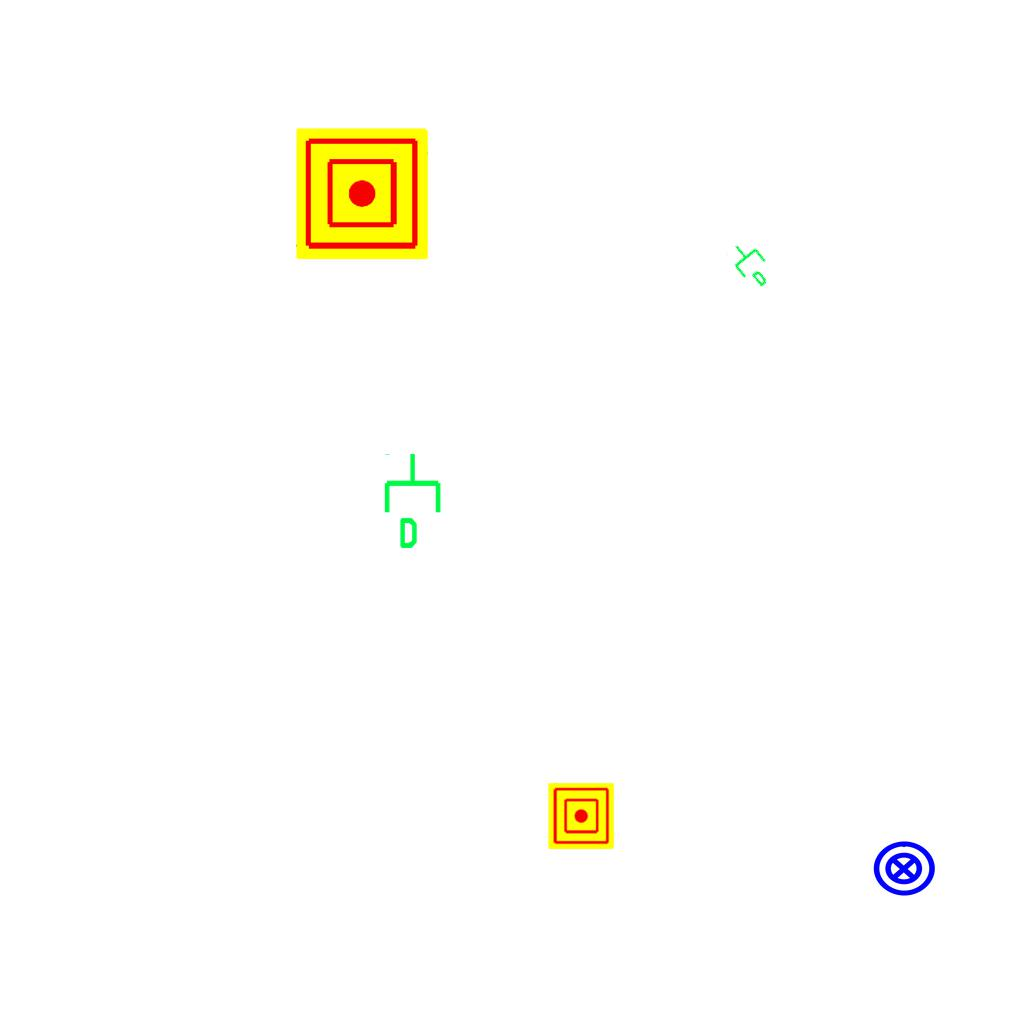Datenanschluss_einfach: (380, 451, 449, 551), (723, 233, 781, 295)
NAM-Nichtautomatischer_Melder: (296, 128, 428, 260), (548, 783, 614, 849)
Taster_beleuchtet: (871, 836, 937, 902)
